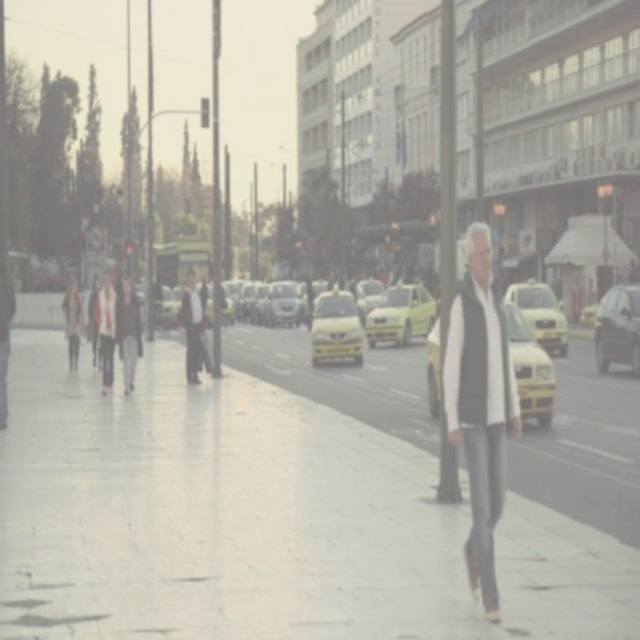pessoa: (438, 214, 526, 628), (177, 266, 216, 388), (114, 273, 144, 400), (93, 267, 121, 397), (375, 256, 441, 310), (0, 252, 18, 434), (63, 274, 84, 372), (86, 275, 102, 373), (615, 248, 639, 306), (210, 268, 230, 336), (489, 258, 512, 298), (151, 272, 163, 327), (197, 276, 209, 322), (306, 266, 316, 312), (548, 266, 560, 298), (349, 274, 358, 306), (338, 268, 347, 292), (328, 269, 336, 292), (239, 268, 246, 280)
